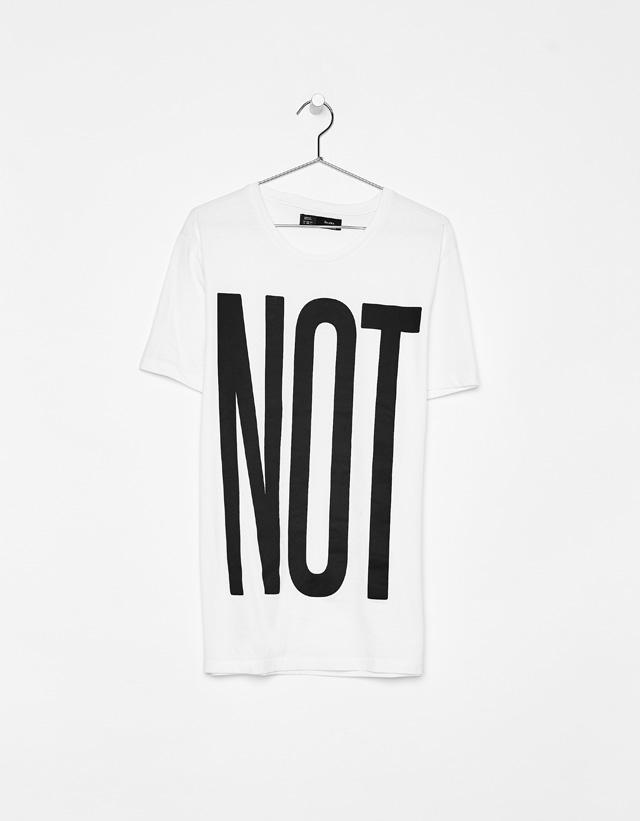teeshirt: (122, 181, 489, 740)
